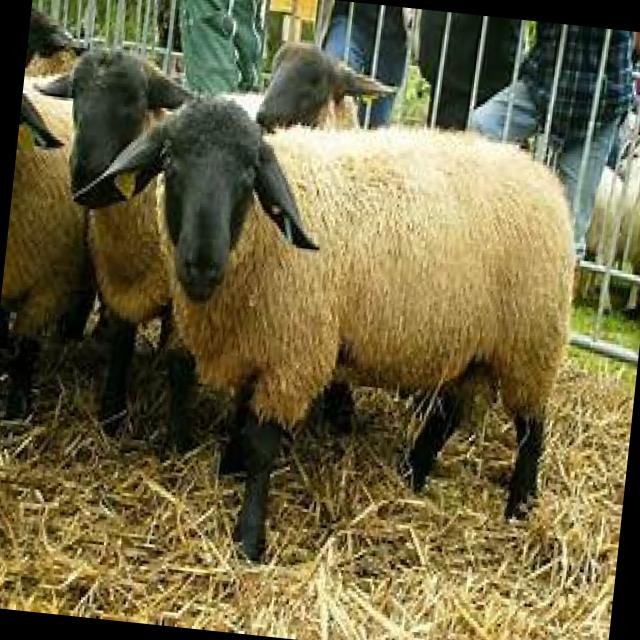sheep: (41, 74, 592, 591), (0, 11, 400, 465)
